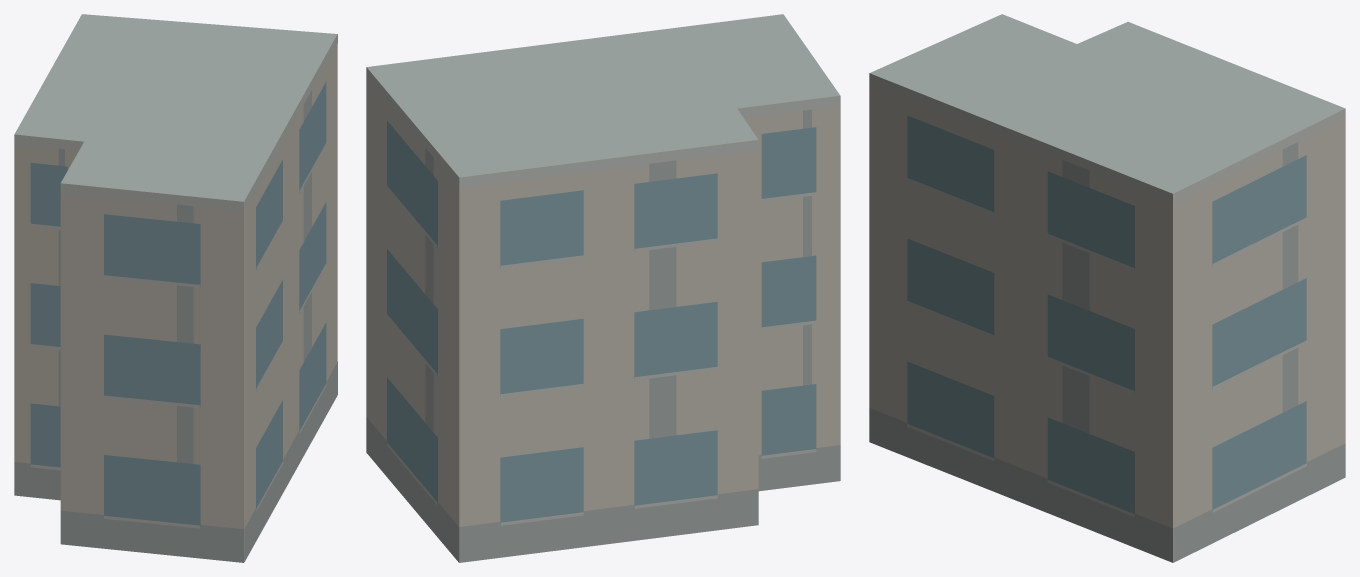
Rendered from residential-843a191e-9461-4fd3-9e47-3e8e0fba35d4.glb.
The picture shows the model from 3 angles, left to right: view 1: azimuth 30°, elevation 25°; view 2: azimuth 150°, elevation 25°; view 3: azimuth 270°, elevation 25°; orthographic projection. The views are drawn at different scales.
Parts seen in each view (by area): view 1: residential-843a191e-9461-4fd3-9e47-3e8e0fba35d4.tmp; view 2: residential-843a191e-9461-4fd3-9e47-3e8e0fba35d4.tmp; view 3: residential-843a191e-9461-4fd3-9e47-3e8e0fba35d4.tmp.
Part boxes in pixels (bbox=[...]): residential-843a191e-9461-4fd3-9e47-3e8e0fba35d4.tmp: bbox=[14, 14, 337, 562]; residential-843a191e-9461-4fd3-9e47-3e8e0fba35d4.tmp: bbox=[366, 14, 840, 562]; residential-843a191e-9461-4fd3-9e47-3e8e0fba35d4.tmp: bbox=[869, 14, 1345, 562].
Bounding box in the file's own units: 9.57 × 9.15 × 10.71.
